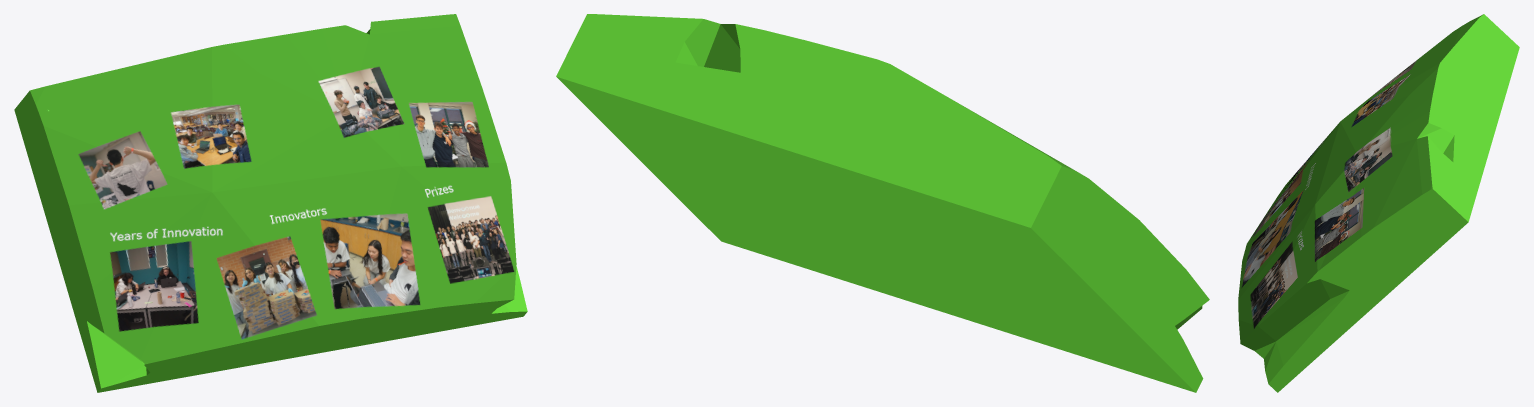
The model's file is aboutUs.glb.
3 views of the same model, side by side, from view 1: azimuth 30°, elevation 25°; view 2: azimuth 150°, elevation 25°; view 3: azimuth 270°, elevation 25° (orthographic). The views are drawn at different scales.
Visible parts, largest first — view 1: Sphere.006; view 2: Sphere.006; view 3: Sphere.006.
Part boxes in pixels (x1=…): Sphere.006: x1=14, y1=14, x2=527, y2=392; Sphere.006: x1=556, y1=14, x2=1209, y2=392; Sphere.006: x1=1238, y1=14, x2=1519, y2=392.
Size of the model in its own units: 0.6503 by 0.38 by 0.4164.
Materials: 1 (1 with a texture image).
